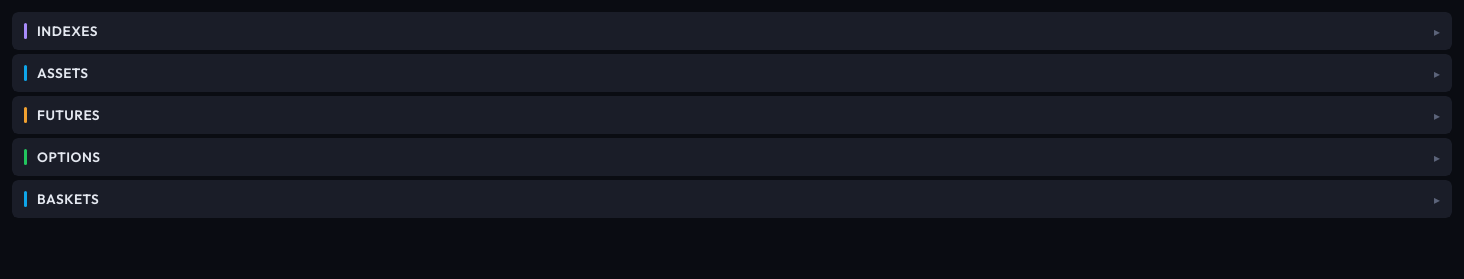
Test: Empty options roots › shows placeholder when getOptionRoots returns empty array
Click the button "Options ▸": (69, 157) [12,138,1452,176]
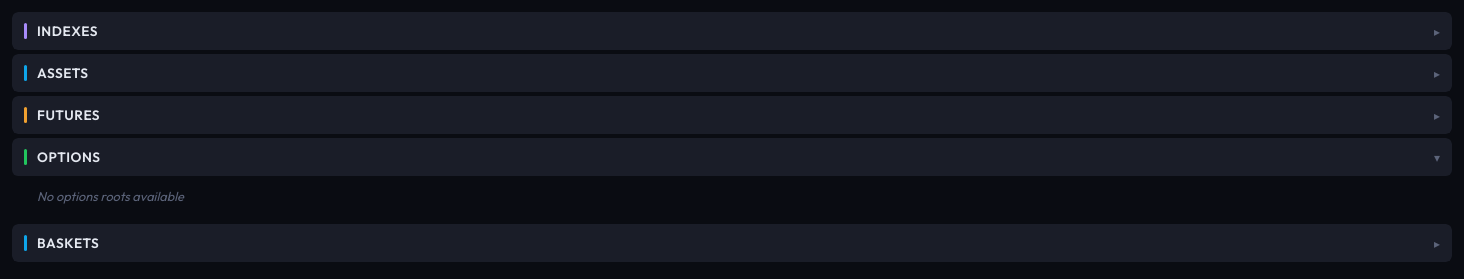
Result: the text "No options roots available" is shown at [37,188,184,204]
